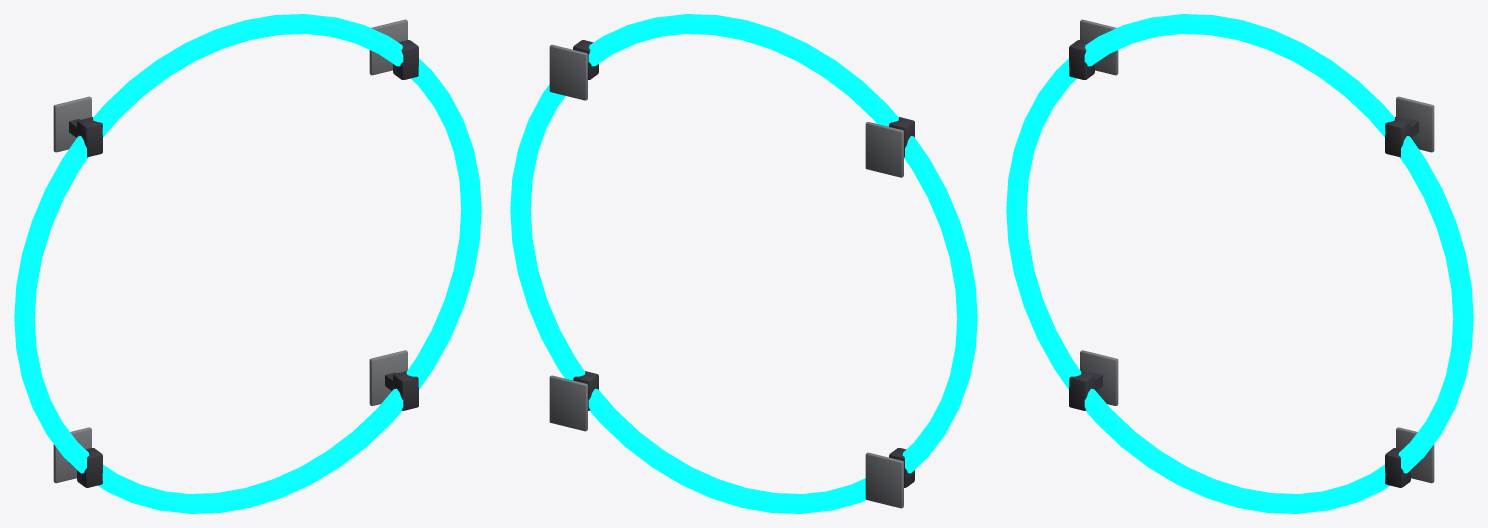
Rendered from KIT_Neon_Anel_Ciano.glb.
3 renders of one model, left to right at view 1: azimuth 30°, elevation 25°; view 2: azimuth 150°, elevation 25°; view 3: azimuth 330°, elevation 25°, orthographic.
Visible parts, largest first — view 1: KIT_Neon_Anel_Ciano; view 2: KIT_Neon_Anel_Ciano; view 3: KIT_Neon_Anel_Ciano.
Part boxes in pixels (x1=…): KIT_Neon_Anel_Ciano: x1=14, y1=14, x2=481, y2=513; KIT_Neon_Anel_Ciano: x1=510, y1=14, x2=977, y2=513; KIT_Neon_Anel_Ciano: x1=1006, y1=14, x2=1473, y2=513.
Size of the model in its own units: 0.624 by 0.624 by 0.055.
